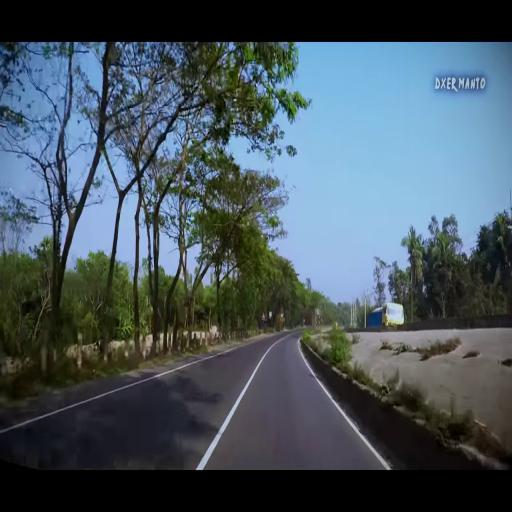truck: (366, 301, 406, 331)
